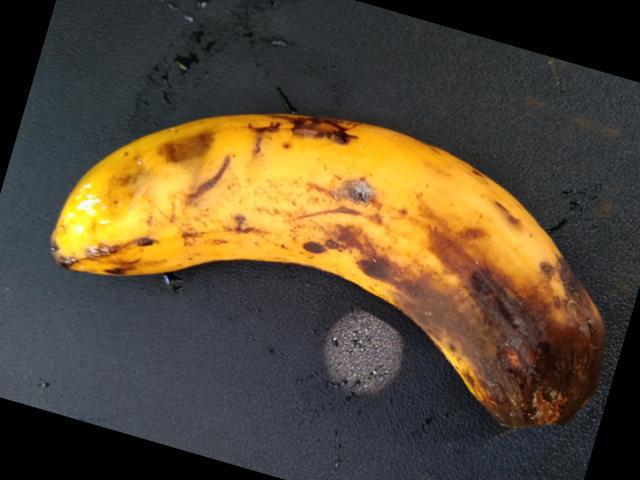rotten: (7, 76, 639, 479)
